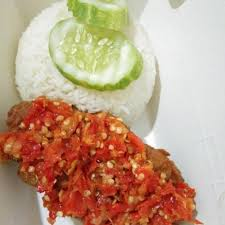ayam_geprek: (8, 93, 199, 225)
